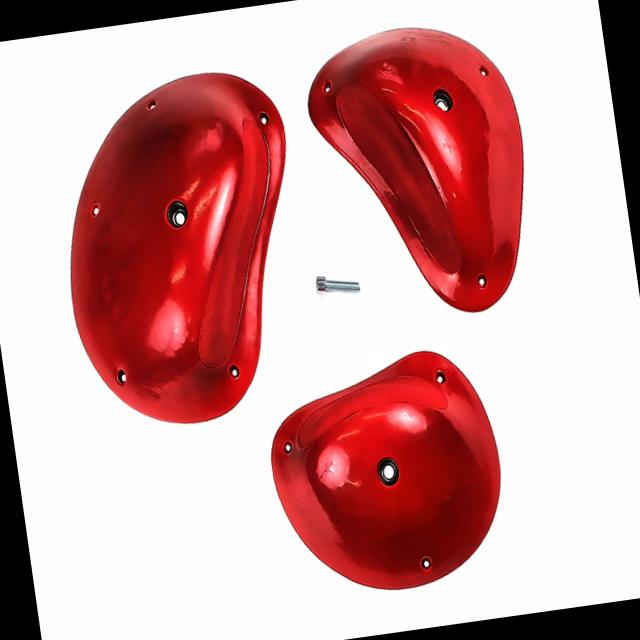Hold: (46, 62, 323, 436), (304, 12, 542, 330), (258, 337, 516, 607)
